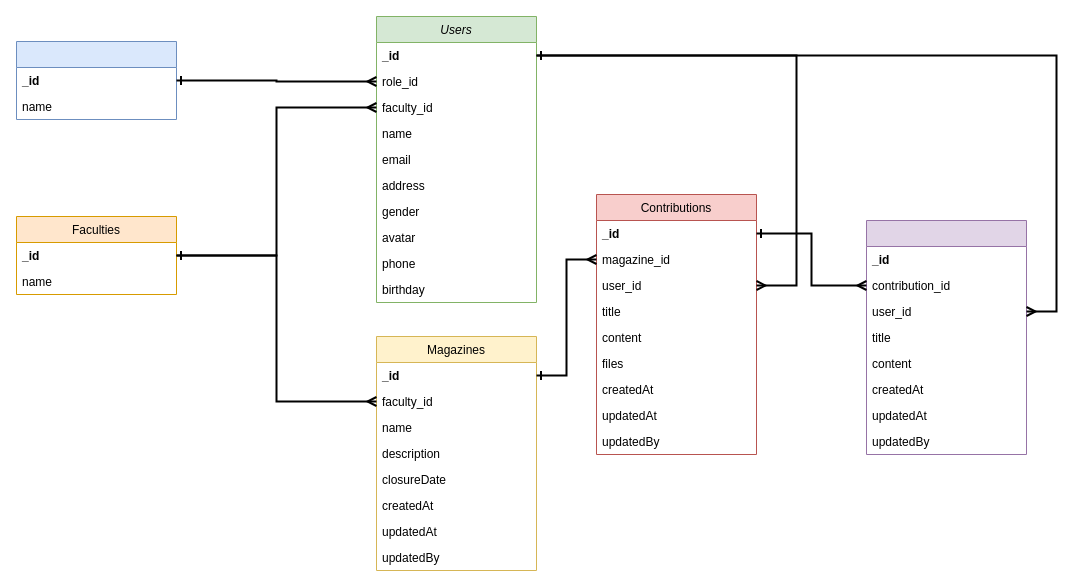
The diagram is 1073 pixels wide and 587 high, and some of its shapes have lost their labels. Here are the shapes that lost their labels. From the top down, the box of each, then its label:
(16, 40, 176, 120): Roles
(866, 220, 1026, 454): Comment
